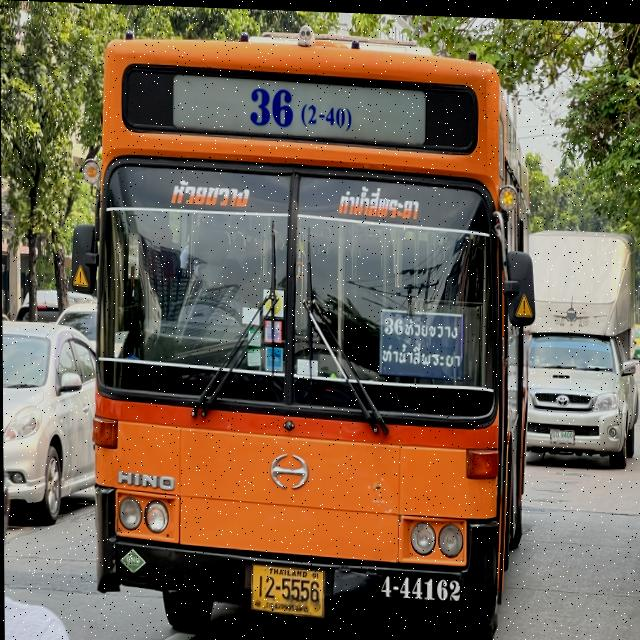BMTA-bus: (89, 24, 534, 640)
Bus-Line-Number: (244, 77, 364, 137)
Destination-Sign-Normal: (378, 304, 465, 378)
